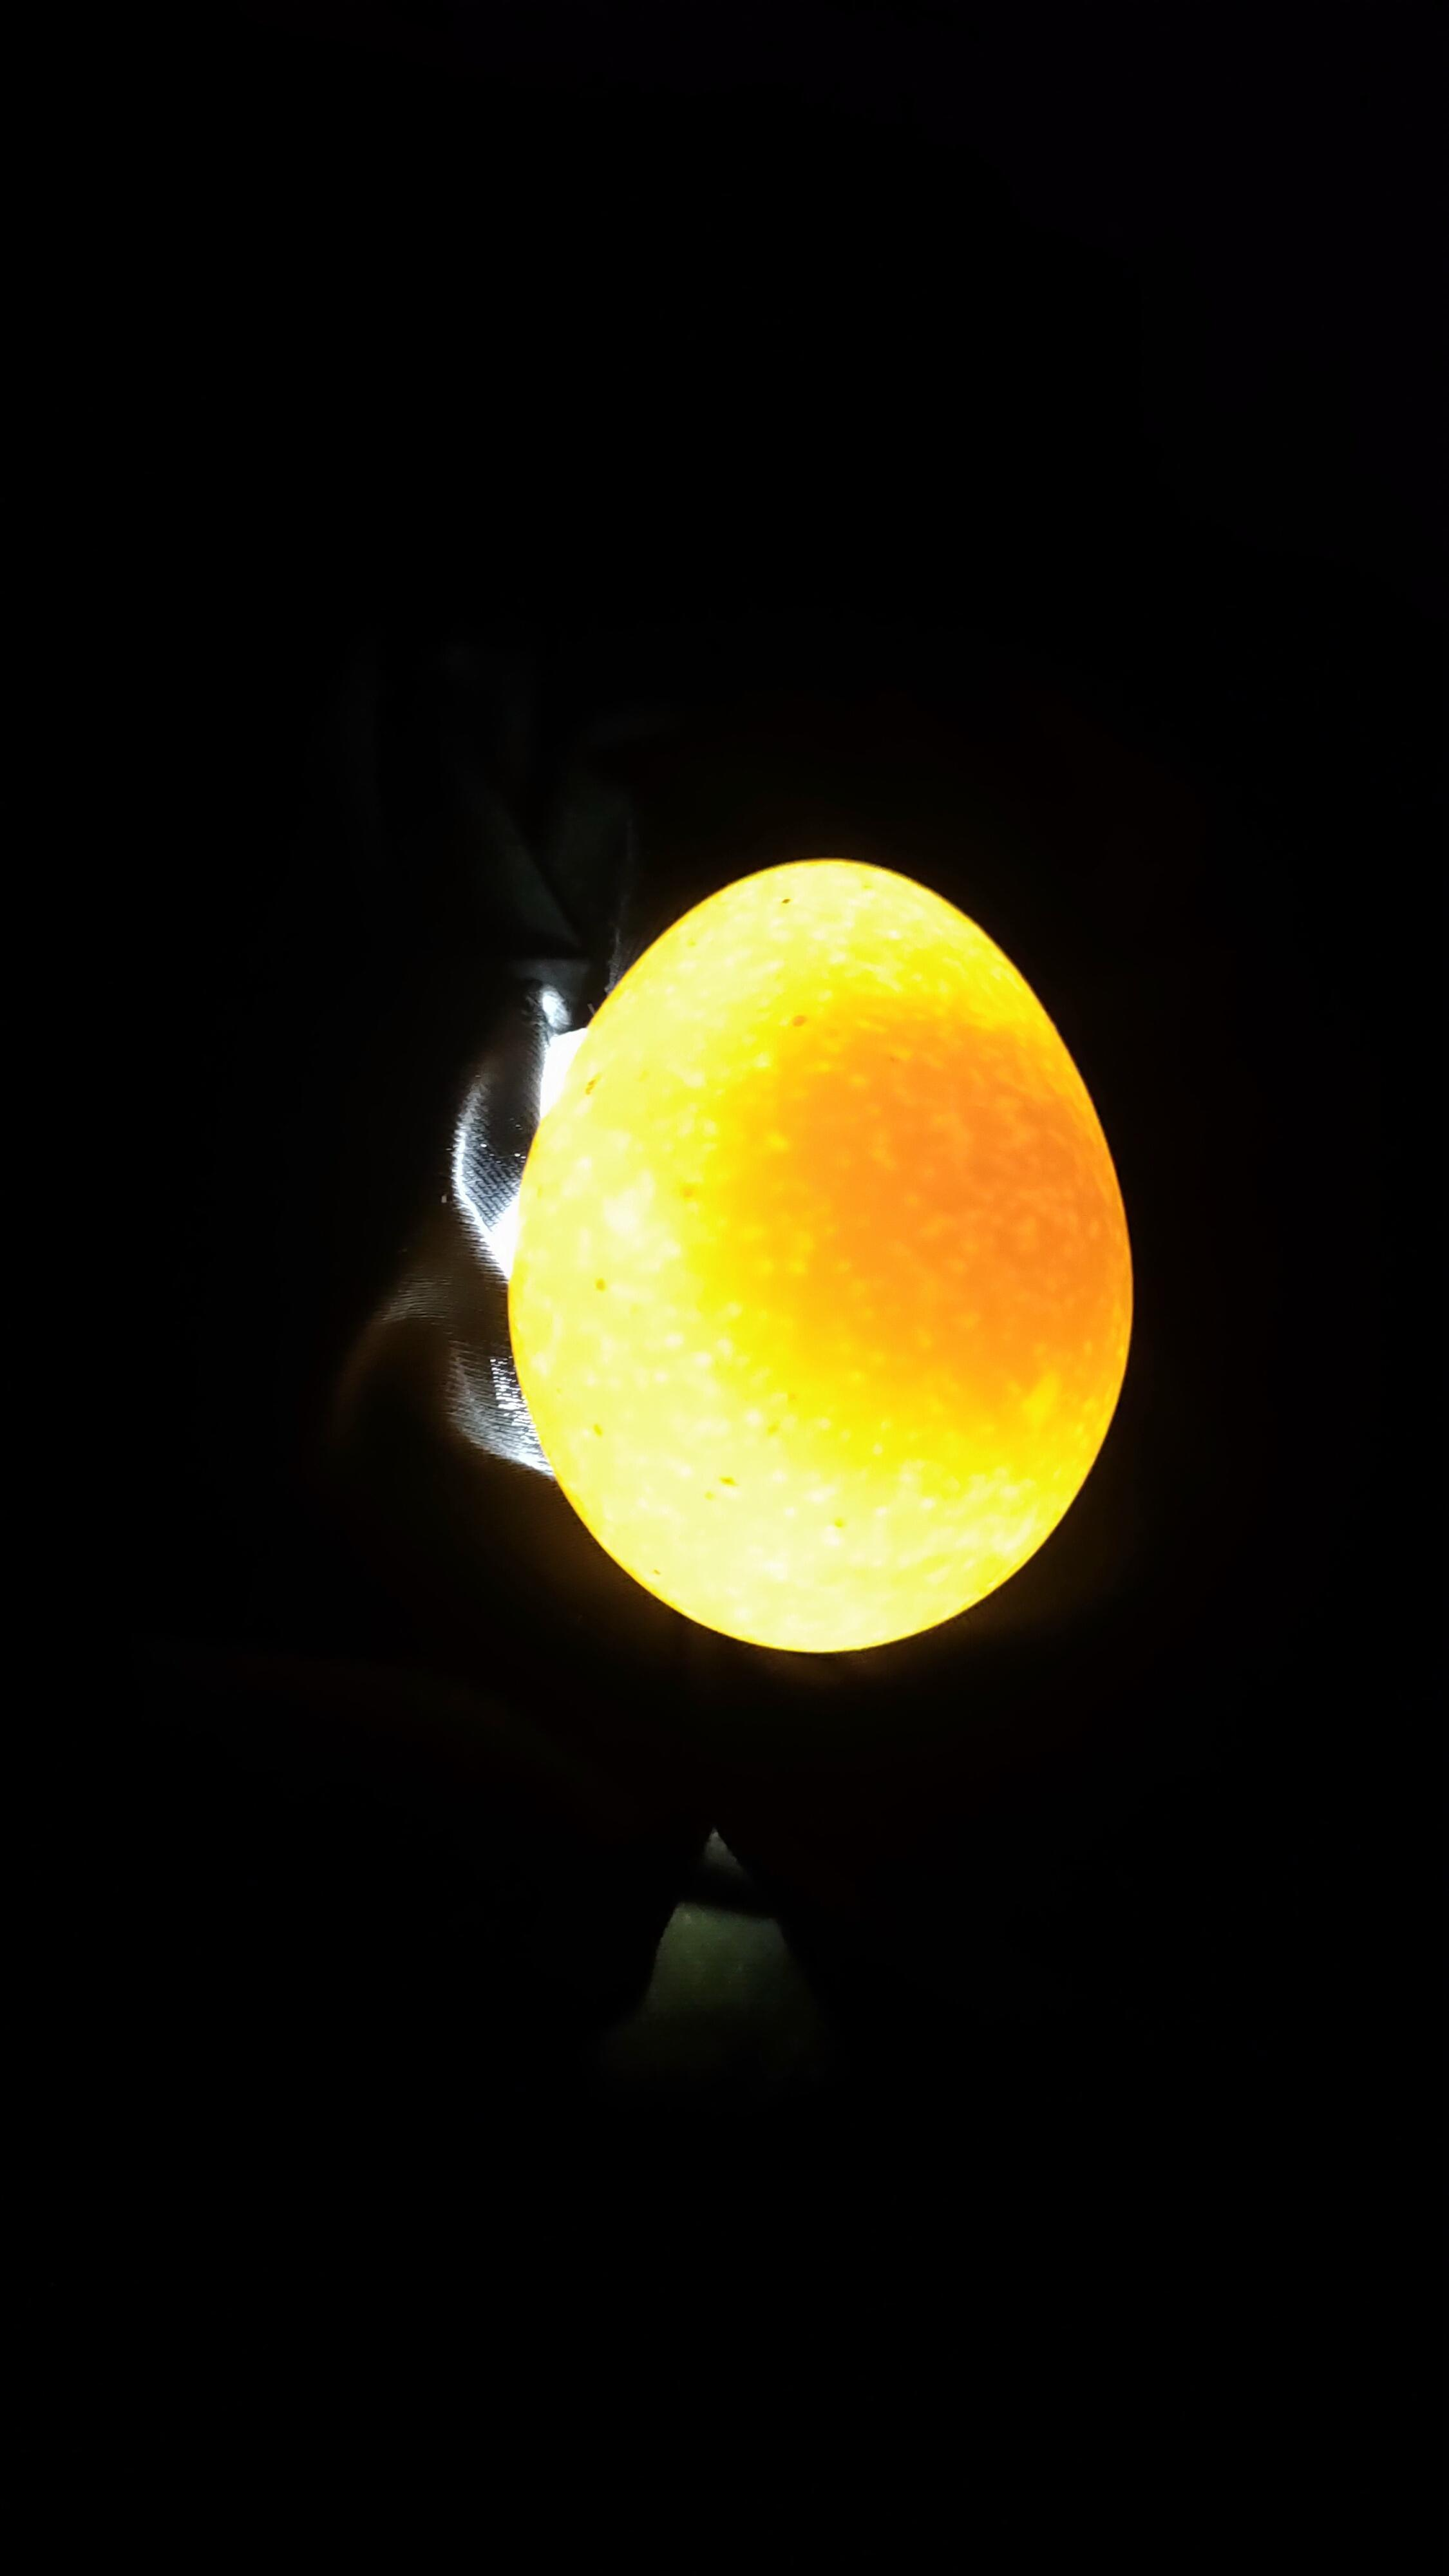Inedible: (477, 805, 1185, 1732)
